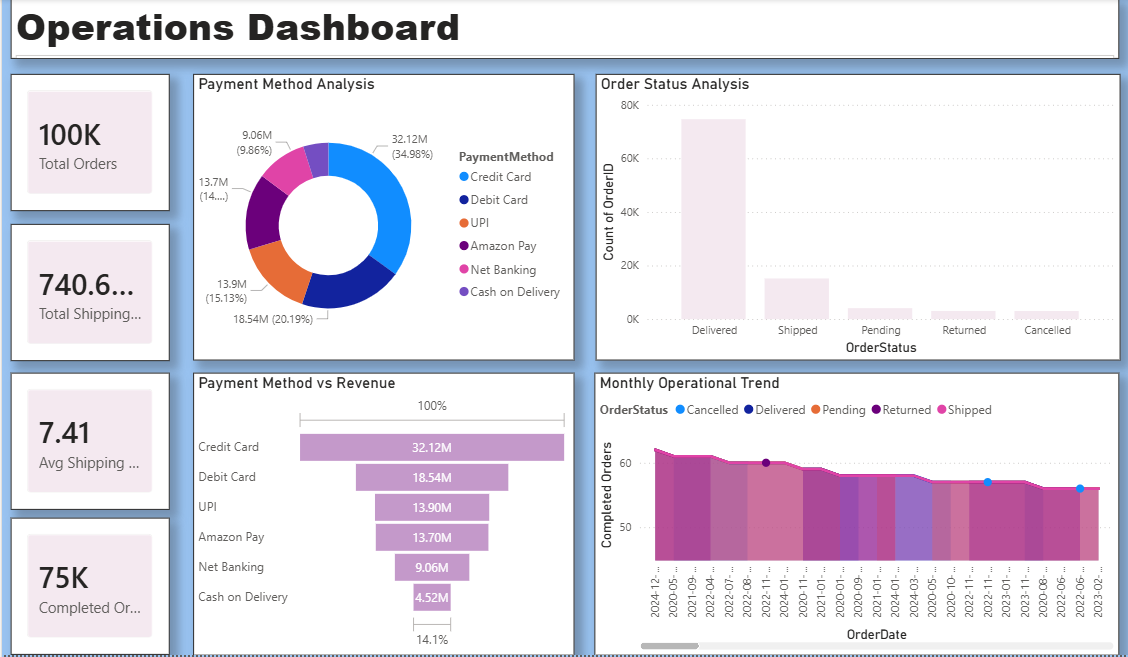

What the dashboard file says about the page in this screenshot:
{"tool":"powerbi","page":{"name":"Operations Dashboard","canvas":[1280,720],"ordinal":4},"visuals":[{"type":"textSlicer","title":"Operations Dashboard","box":[10,0,1217.1,65.7],"z":0},{"type":"cardVisual","fields":{"Data":["amazonanalytics amazonsales.Total Orders"]},"box":[10,82.9,174.3,150],"z":1000},{"type":"cardVisual","fields":{"Data":["amazonanalytics amazonsales.Total Shipping Cost"]},"box":[10,247.1,174.3,150],"z":2000},{"type":"cardVisual","fields":{"Data":["amazonanalytics amazonsales.Avg Shipping Cost"]},"box":[10,410,174.3,150],"z":3000},{"type":"cardVisual","fields":{"Data":["amazonanalytics amazonsales.Completed Orders"]},"box":[10,570,174.3,150],"z":4000},{"type":"donutChart","title":"Payment Method Analysis","fields":{"Category":["amazonanalytics amazonsales.PaymentMethod"],"Y":["amazonanalytics amazonsales.TotalRevenue"]},"box":[210,82.9,418.6,314.3],"z":5000},{"type":"columnChart","title":"Order Status Analysis","fields":{"Category":["amazonanalytics amazonsales.OrderStatus"],"Y":["CountNonNull(amazonanalytics amazonsales.OrderID)"]},"box":[651.4,82.9,575.7,314.3],"z":6000},{"type":"funnel","title":"Payment Method vs Revenue","fields":{"Category":["amazonanalytics amazonsales.PaymentMethod"],"Y":["amazonanalytics amazonsales.TotalRevenue"]},"box":[210,410,418.6,310],"z":7000},{"type":"areaChart","title":"Monthly Operational Trend","fields":{"Category":["amazonanalytics amazonsales.OrderDate"],"Series":["amazonanalytics amazonsales.OrderStatus"],"Y":["amazonanalytics amazonsales.Completed Orders"]},"box":[651,410,576,310],"z":8000}]}

Visuals, with their boxes in screenshot pixels (x1, y1, x2, y2):
"Operations Dashboard" textSlicer: locate(12, 0, 1109, 59)
cardVisual - amazonanalytics amazonsales.Total Orders: locate(12, 75, 169, 210)
cardVisual - amazonanalytics amazonsales.Total Shipping Cost: locate(12, 223, 169, 358)
cardVisual - amazonanalytics amazonsales.Avg Shipping Cost: locate(12, 369, 169, 505)
cardVisual - amazonanalytics amazonsales.Completed Orders: locate(12, 514, 169, 649)
"Payment Method Analysis" donutChart: locate(192, 75, 569, 358)
"Order Status Analysis" columnChart: locate(590, 75, 1109, 358)
"Payment Method vs Revenue" funnel: locate(192, 369, 569, 649)
"Monthly Operational Trend" areaChart: locate(589, 369, 1108, 649)
